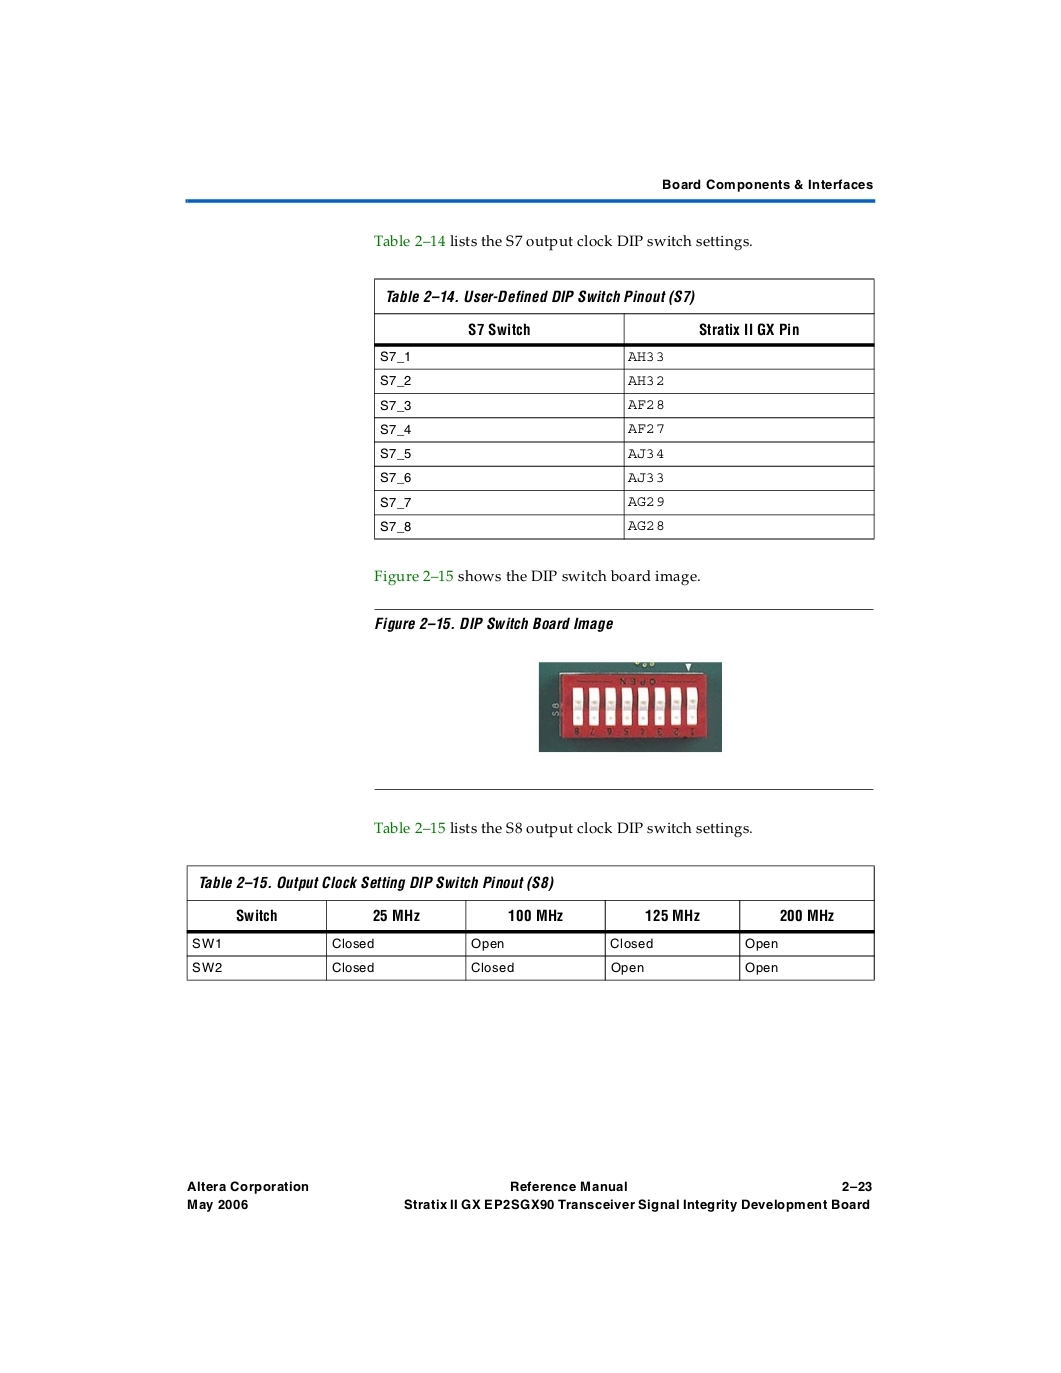Table: (374, 277, 874, 541), (186, 864, 874, 981)
figure: (538, 661, 721, 752)
